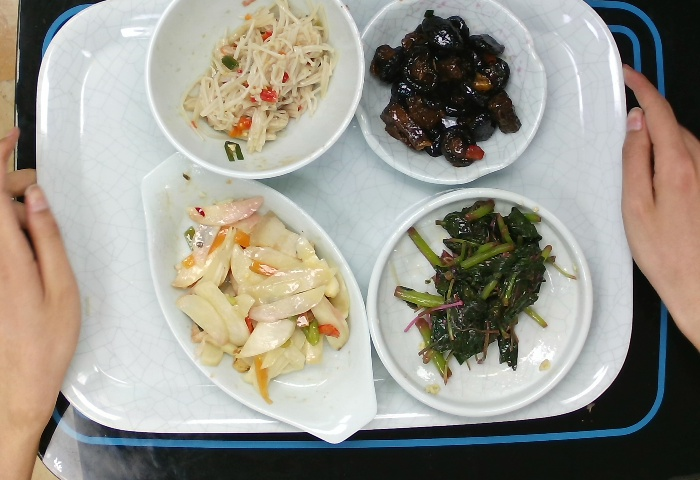JYsf-Ao_Yuan_Wan: (346, 1, 560, 188)
JYsf-Fan_Wan: (142, 1, 368, 187)
JYsf-Xiao_Yuan_Pan: (362, 187, 600, 421)
JYsf-Yu_Pan: (133, 142, 382, 444)
